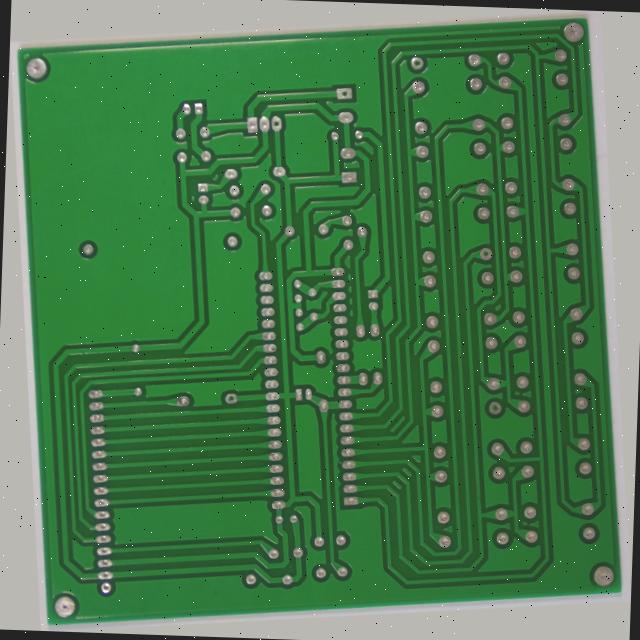missing_hole: (356, 66, 379, 86), (441, 41, 459, 61), (495, 254, 515, 271), (493, 420, 510, 440), (284, 94, 300, 112), (207, 387, 224, 403)
